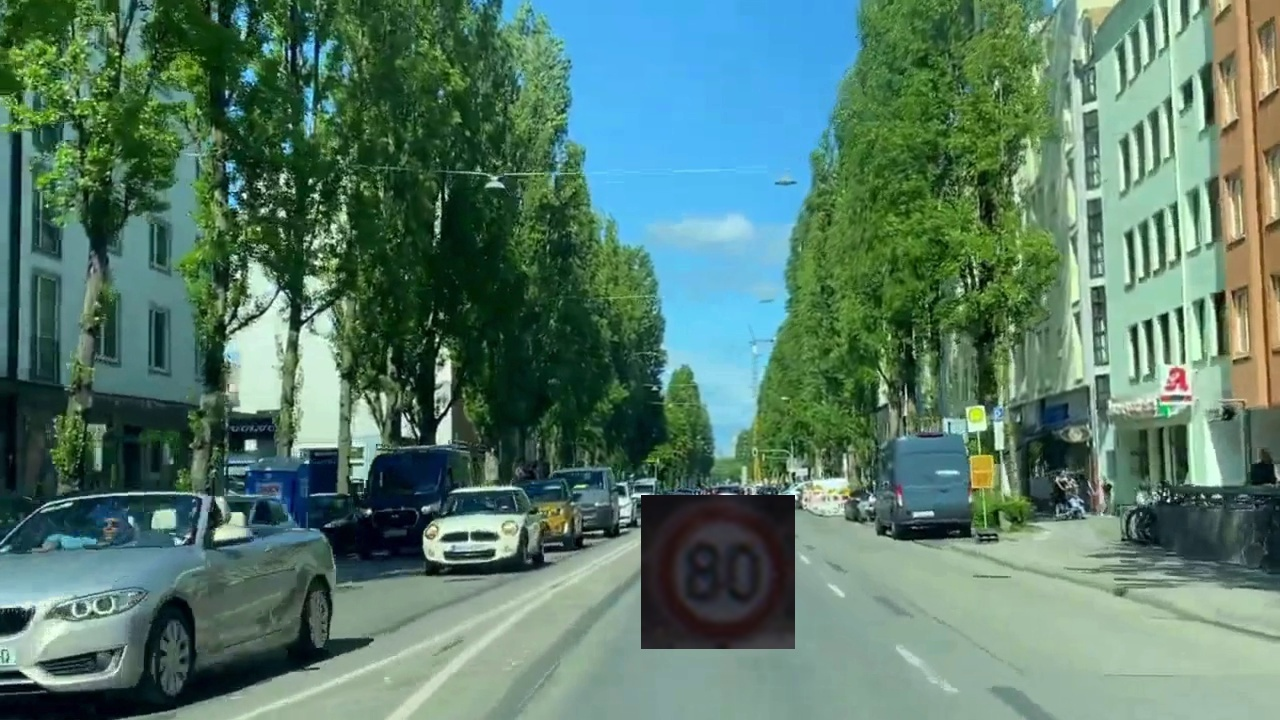Speed 80: (641, 495, 795, 649)
